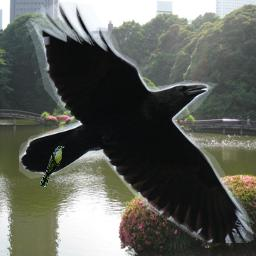Crow: (19, 0, 254, 243)
Cuckoo: (40, 146, 65, 187)
